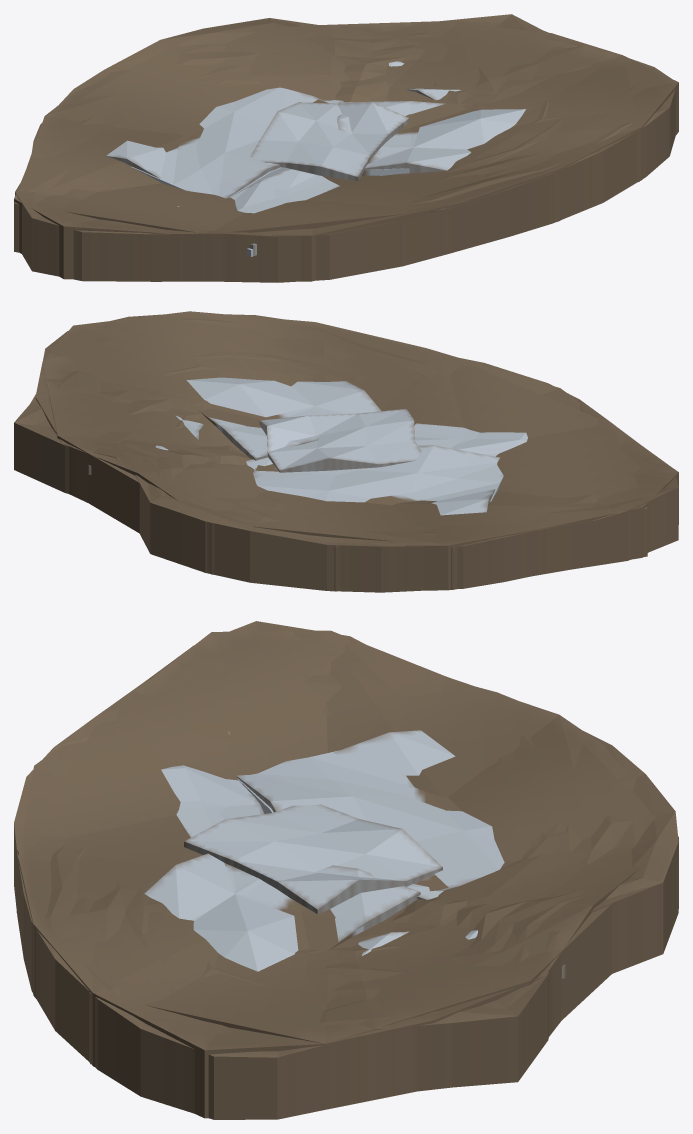
Rendered from SF_INCL_SILVER_SHEET_V1.glb.
3 views of the same model, one above another, from view 1: azimuth 30°, elevation 25°; view 2: azimuth 150°, elevation 25°; view 3: azimuth 270°, elevation 25° (orthographic). The views are drawn at different scales.
Visible parts, largest first — view 1: LOD0_SF_INCL_SILVER_SHEET_V1, LOD2_SF_INCL_SILVER_SHEET_V1, LOD1_SF_INCL_SILVER_SHEET_V1; view 2: LOD0_SF_INCL_SILVER_SHEET_V1, LOD2_SF_INCL_SILVER_SHEET_V1, LOD1_SF_INCL_SILVER_SHEET_V1; view 3: LOD0_SF_INCL_SILVER_SHEET_V1, LOD2_SF_INCL_SILVER_SHEET_V1, LOD1_SF_INCL_SILVER_SHEET_V1.
Boxes of the visible parts, bbox=[...] form: LOD0_SF_INCL_SILVER_SHEET_V1: bbox=[15, 14, 675, 282]; LOD2_SF_INCL_SILVER_SHEET_V1: bbox=[14, 20, 639, 255]; LOD1_SF_INCL_SILVER_SHEET_V1: bbox=[14, 23, 678, 281]; LOD0_SF_INCL_SILVER_SHEET_V1: bbox=[14, 314, 678, 592]; LOD2_SF_INCL_SILVER_SHEET_V1: bbox=[42, 324, 647, 589]; LOD1_SF_INCL_SILVER_SHEET_V1: bbox=[35, 311, 678, 591]; LOD0_SF_INCL_SILVER_SHEET_V1: bbox=[14, 621, 678, 1119]; LOD2_SF_INCL_SILVER_SHEET_V1: bbox=[16, 652, 656, 1064]; LOD1_SF_INCL_SILVER_SHEET_V1: bbox=[18, 630, 678, 1118].
Size of the model in its own units: 1.35 by 0.1104 by 0.8951.
1 material, 1 textured.
